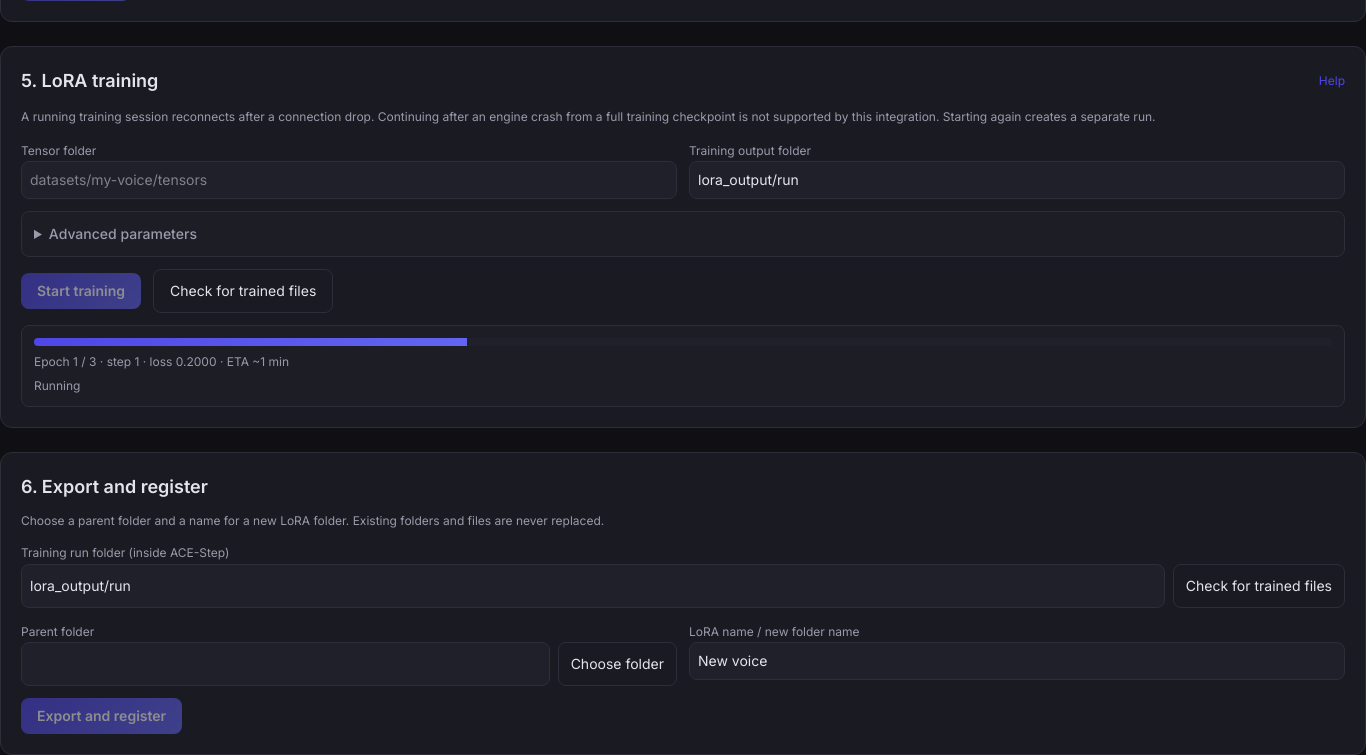
does not reinterpret the old export path as a parent or export after cancelling review
The image size is (1366, 755).
(page scrolled)
Click the button "Choose folder": (617, 664) [558,642,677,686]
(page scrolled)
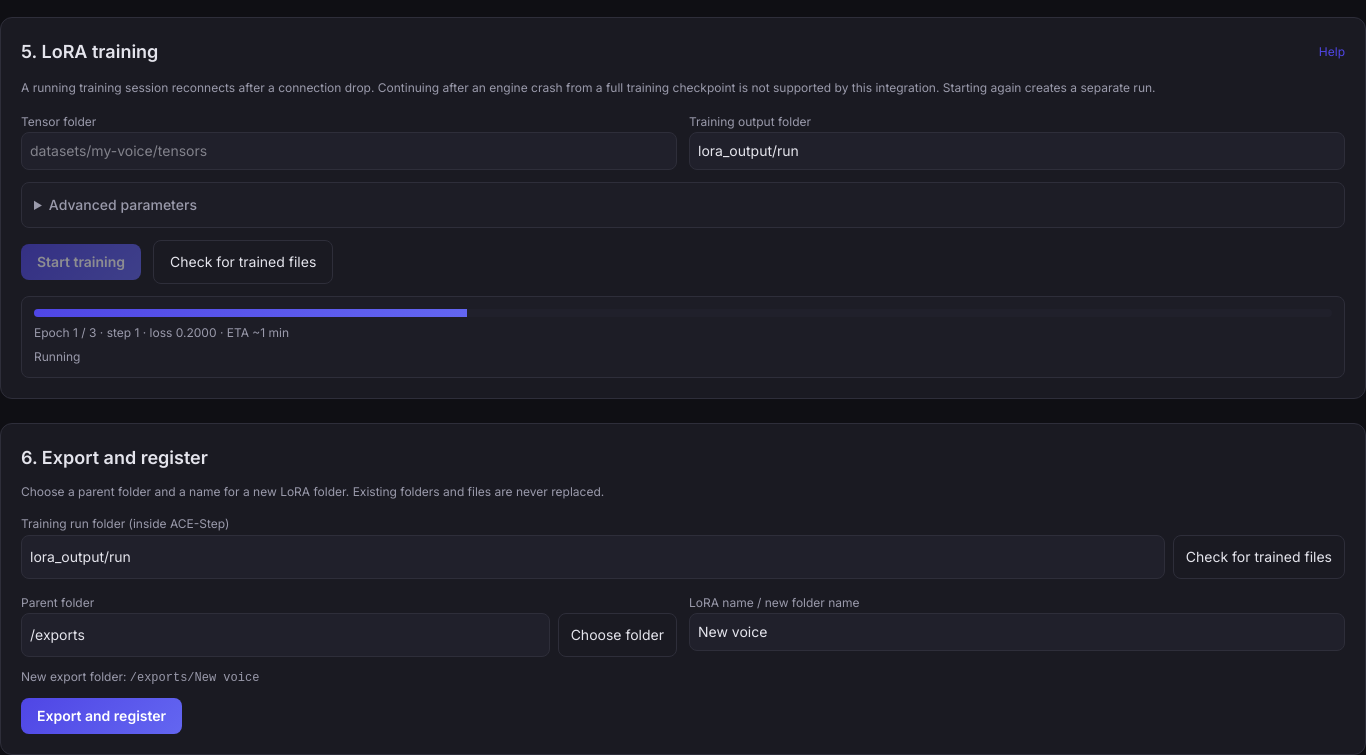
Click the button "Export and register": (102, 716) [21,698,182,734]
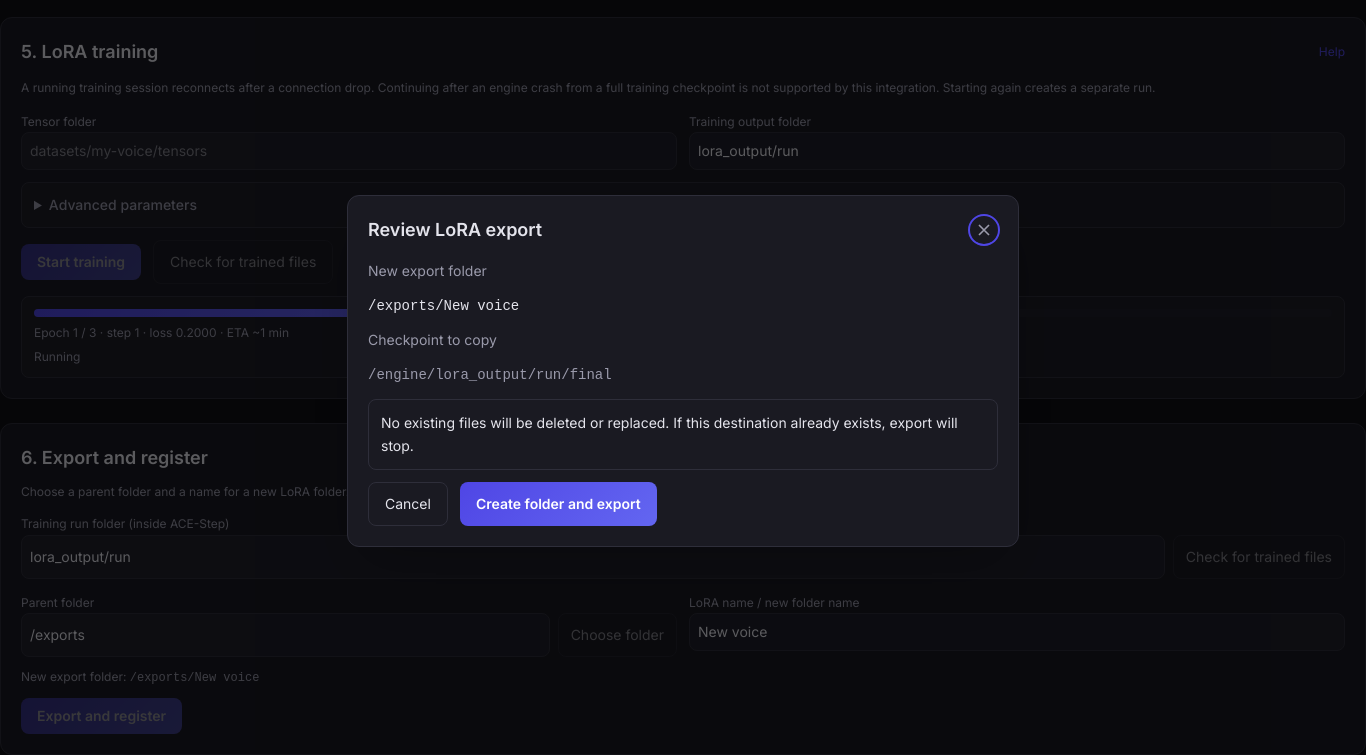
Click the button "Cancel": (408, 504) [368,482,448,526]
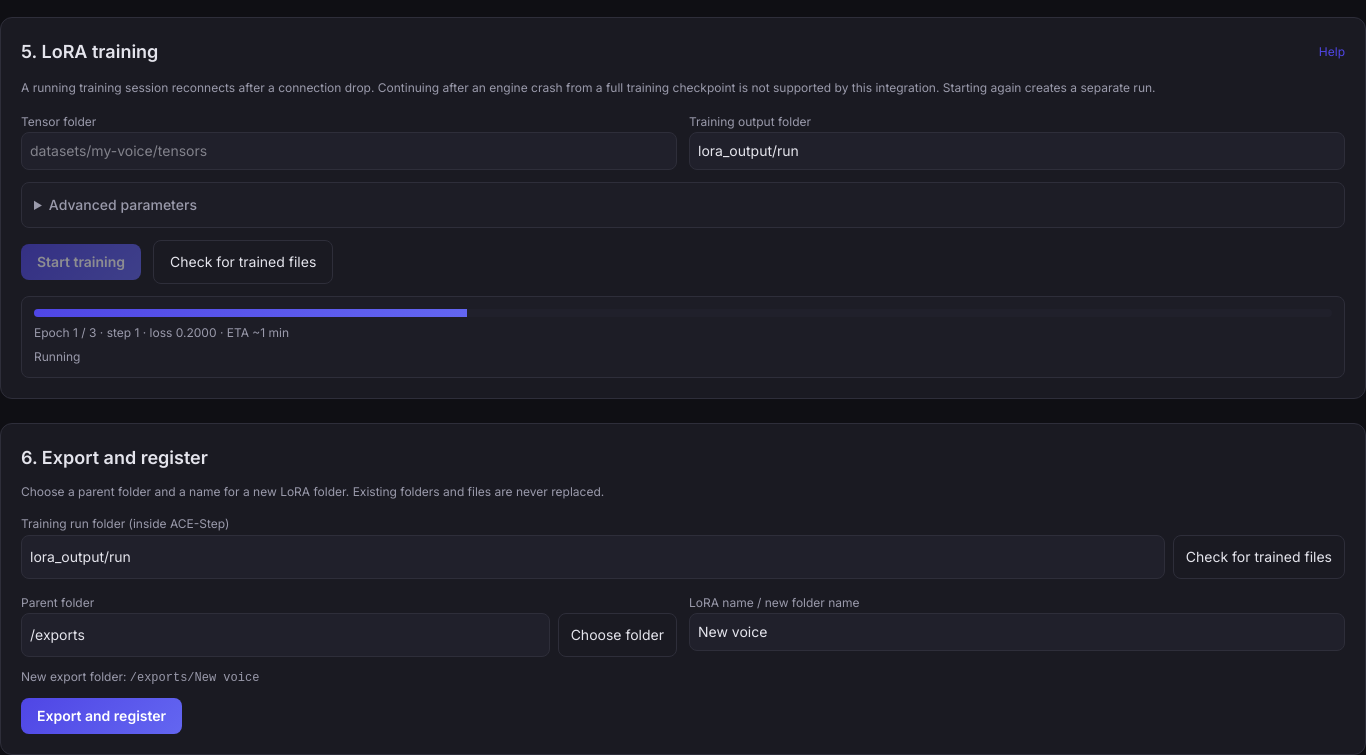
Expected: the dialog is gone
